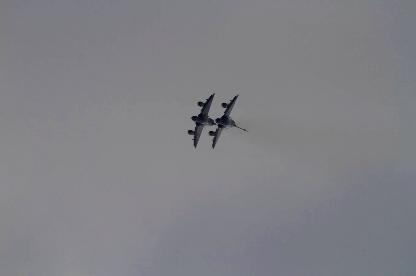Mirage2000: (208, 94, 249, 150), (187, 93, 225, 149)
